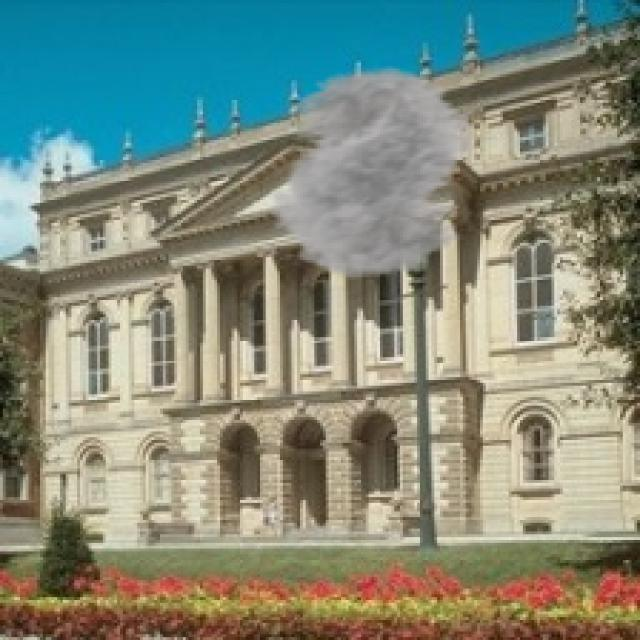Smoke: (248, 66, 503, 280)
